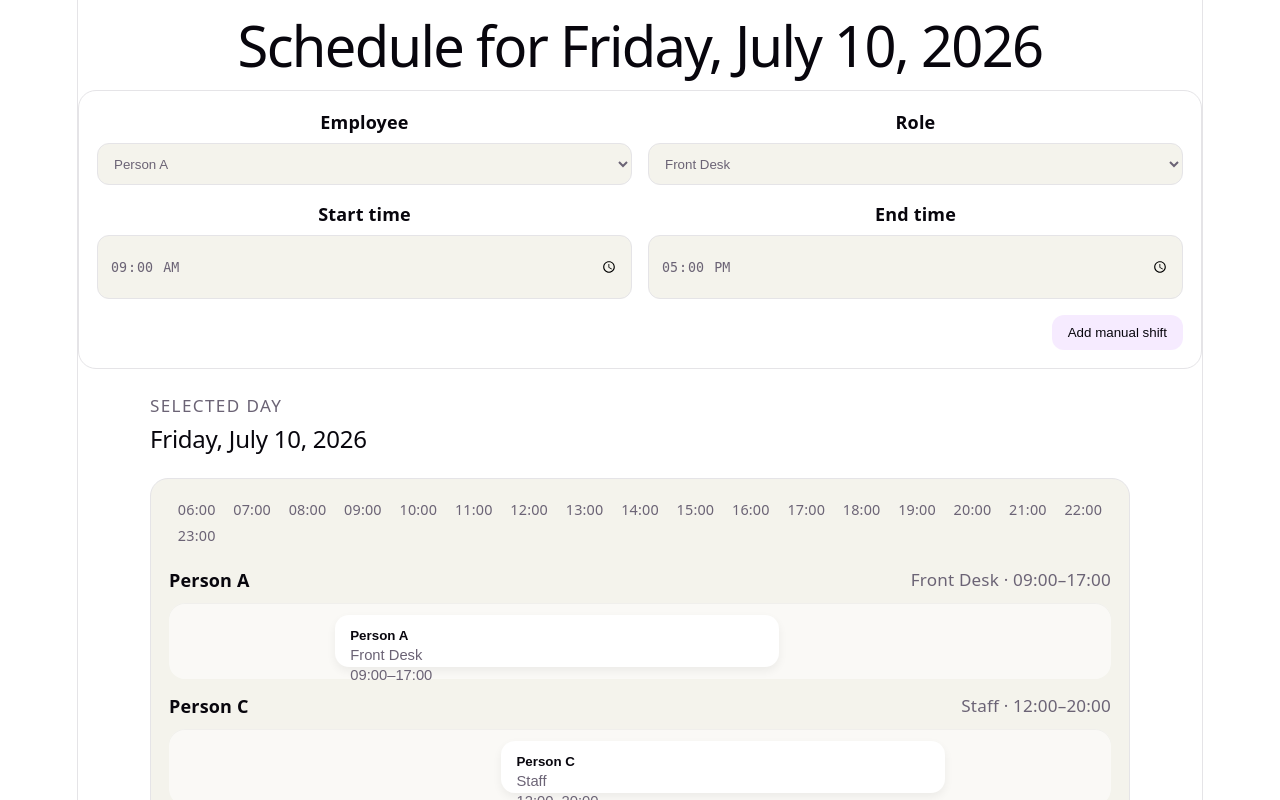
it: ScheduleDatePage › renders the selected date and opens the shift action menu when a shift is clicked
The width and height of the screenshot is (1280, 800).
Expected: the heading "Schedule for Friday, July 10, 2026" is shown, [238, 7, 1042, 83]
Step 1. Click the button with aria-label "Actions for Person C shift from 12:00 to 20:00" → [546, 762], box [502, 741, 945, 793]
(page scrolled)
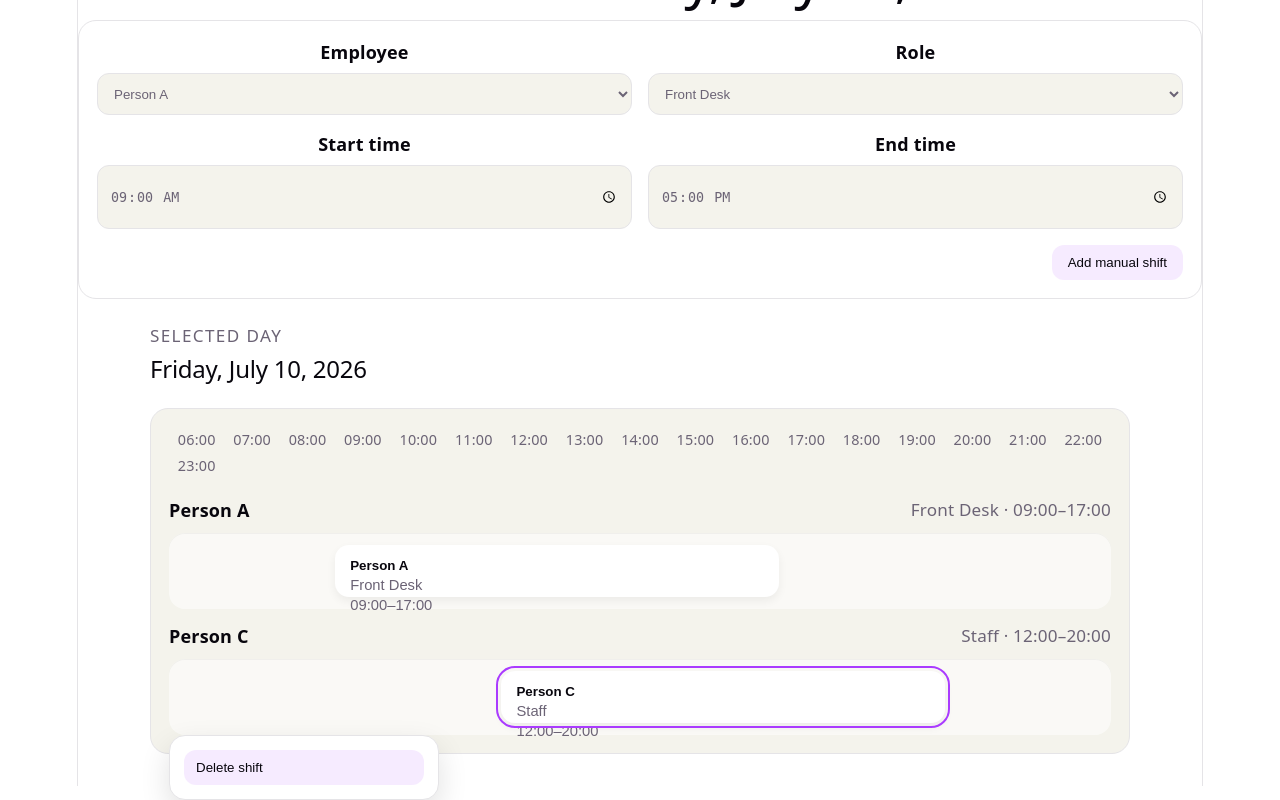
Expected: the menu named "Shift actions" is shown, [169, 735, 439, 799]
Expected: the menu item "Delete shift" is shown, [184, 750, 424, 785]
